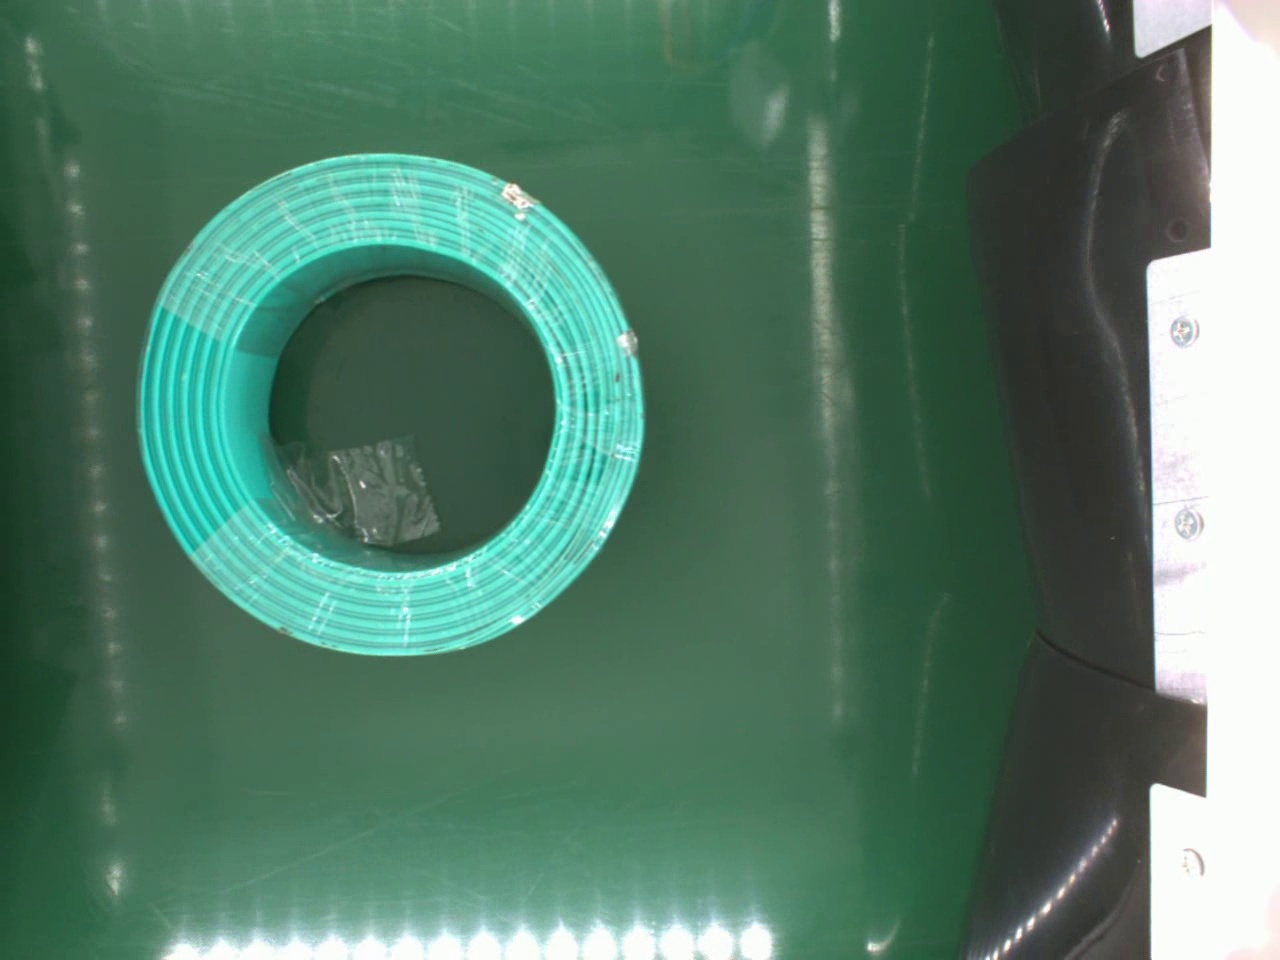green: (131, 147, 649, 658)
